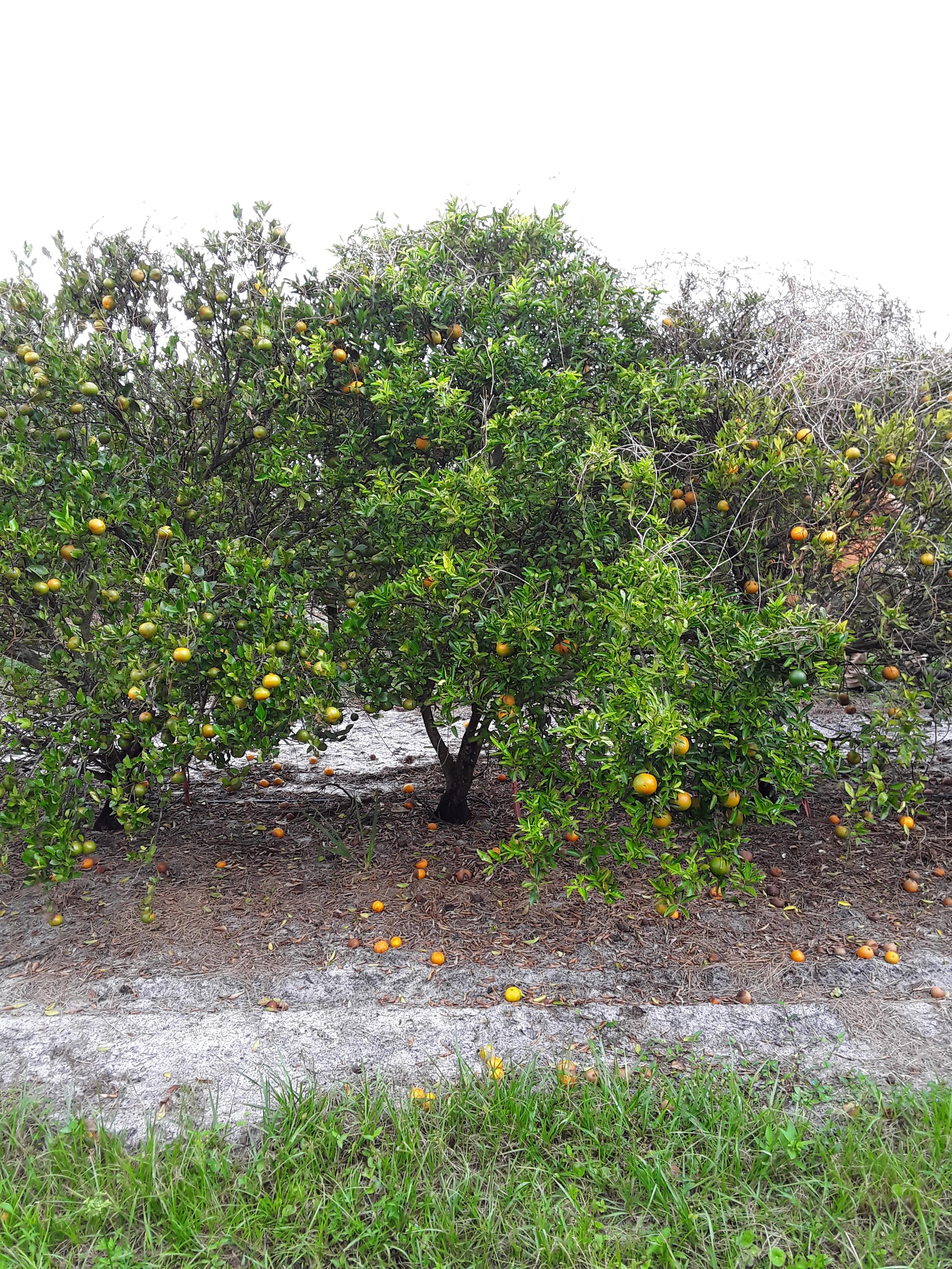fruit_on_ground: (633, 771, 660, 796), (495, 689, 519, 713), (554, 636, 579, 659), (709, 854, 731, 877), (670, 734, 692, 757), (78, 377, 100, 398), (445, 320, 466, 341), (87, 515, 108, 536), (424, 327, 445, 348), (721, 787, 742, 808), (724, 807, 746, 827), (730, 415, 750, 436), (742, 738, 762, 759), (65, 632, 86, 652), (58, 542, 79, 562), (651, 809, 672, 829), (137, 619, 158, 639), (787, 668, 808, 688), (346, 379, 368, 398), (838, 552, 861, 570), (412, 432, 432, 452), (494, 639, 514, 659), (721, 460, 742, 479), (252, 334, 273, 353), (100, 585, 122, 603), (8, 296, 28, 315), (196, 302, 215, 322), (675, 790, 694, 810), (172, 645, 192, 664), (324, 452, 345, 470), (819, 528, 840, 546), (13, 343, 32, 362), (323, 705, 342, 724), (159, 727, 178, 746), (2, 564, 22, 582), (174, 489, 194, 507), (794, 425, 814, 443), (262, 671, 282, 689), (881, 663, 901, 681), (619, 477, 638, 495), (419, 573, 438, 591), (32, 369, 51, 387), (918, 549, 936, 568), (331, 345, 349, 364), (789, 523, 808, 541), (31, 579, 50, 597), (114, 800, 132, 819), (1, 772, 18, 792), (28, 385, 48, 402), (878, 450, 899, 466), (190, 393, 208, 411), (313, 660, 331, 678), (114, 393, 132, 411), (889, 469, 907, 487), (252, 279, 271, 296), (897, 813, 916, 830), (53, 425, 72, 442), (742, 577, 761, 594), (784, 591, 802, 608), (833, 823, 851, 840), (138, 312, 156, 329), (156, 523, 174, 540), (844, 749, 862, 766), (131, 781, 148, 799), (45, 576, 63, 593), (844, 444, 862, 461), (129, 267, 146, 285), (251, 685, 270, 701), (121, 818, 140, 834), (112, 360, 129, 377), (170, 769, 187, 786), (715, 496, 732, 513), (147, 266, 164, 283), (682, 488, 699, 505), (19, 402, 37, 418), (91, 318, 109, 334), (178, 559, 194, 577), (234, 617, 252, 633), (128, 666, 146, 682), (274, 638, 292, 654), (252, 423, 268, 441), (22, 350, 41, 365), (919, 390, 936, 406), (66, 839, 83, 855), (96, 428, 113, 444), (229, 693, 246, 709), (212, 288, 229, 304), (200, 721, 217, 737), (149, 552, 165, 568), (660, 313, 676, 329), (334, 658, 350, 674), (269, 223, 285, 239), (81, 838, 97, 854), (200, 608, 216, 624), (348, 362, 364, 378), (745, 435, 761, 451), (296, 727, 312, 743), (126, 685, 142, 701), (69, 400, 85, 416), (293, 318, 309, 334), (184, 507, 201, 522), (798, 492, 815, 507), (669, 499, 686, 514), (116, 736, 134, 750), (887, 705, 903, 720), (166, 711, 182, 726), (376, 696, 392, 711), (102, 293, 117, 309), (206, 665, 222, 680), (138, 709, 154, 724), (401, 696, 417, 711), (119, 727, 136, 741), (194, 444, 211, 458), (101, 275, 116, 290), (362, 699, 377, 714), (836, 690, 852, 704), (668, 485, 684, 499), (227, 306, 243, 320), (299, 657, 313, 672), (842, 703, 858, 716), (229, 778, 245, 791), (326, 315, 340, 329), (345, 596, 359, 610), (940, 428, 952, 444), (298, 646, 312, 659), (70, 614, 84, 627), (942, 390, 952, 407), (326, 299, 339, 312), (345, 548, 357, 562), (348, 711, 360, 722)
fruit_on_tree: (485, 1058, 507, 1081), (557, 1067, 579, 1089), (412, 1091, 435, 1112), (557, 1059, 579, 1080), (502, 984, 524, 1004), (841, 1100, 862, 1119), (581, 1066, 600, 1086), (486, 1053, 505, 1072), (654, 897, 672, 916), (856, 942, 876, 959), (707, 883, 725, 901), (476, 1042, 495, 1059), (455, 866, 474, 883), (930, 983, 948, 1000), (139, 908, 156, 925), (736, 987, 753, 1004), (408, 1085, 426, 1101), (903, 877, 921, 893), (47, 911, 64, 927), (789, 947, 806, 963), (154, 858, 170, 874), (884, 949, 900, 965), (429, 949, 445, 965), (564, 828, 581, 843), (765, 884, 783, 898), (738, 848, 754, 863), (387, 933, 403, 948), (81, 855, 96, 870), (932, 863, 948, 877), (882, 942, 898, 956), (768, 864, 783, 878), (346, 935, 361, 949), (373, 939, 388, 953), (668, 906, 682, 920), (371, 898, 385, 912), (827, 812, 842, 825), (489, 844, 503, 857), (415, 856, 429, 869), (940, 894, 952, 908), (271, 826, 285, 838), (401, 781, 416, 792), (415, 867, 428, 879), (402, 797, 415, 809), (907, 868, 921, 879), (306, 754, 318, 766), (244, 750, 257, 761), (215, 858, 228, 869), (322, 764, 335, 775), (271, 760, 283, 771), (427, 820, 439, 831), (495, 772, 507, 782), (257, 778, 270, 787), (272, 776, 283, 786), (462, 720, 472, 730), (368, 752, 378, 760)
